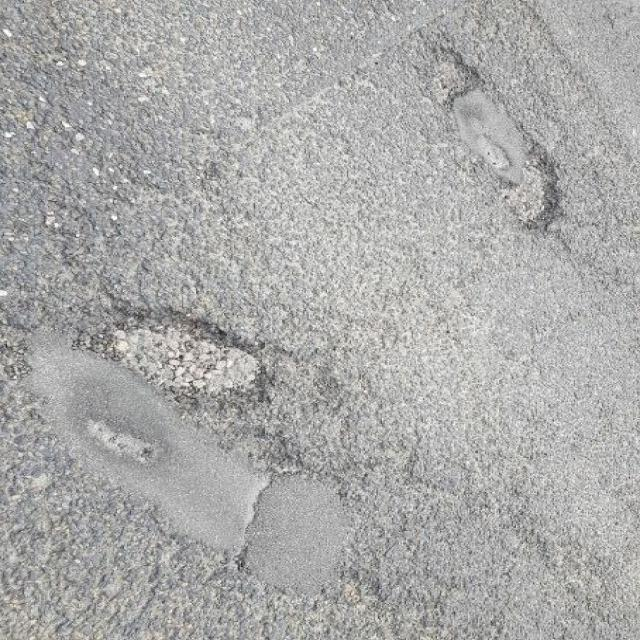Pothole: (406, 36, 571, 236), (77, 303, 282, 413)
